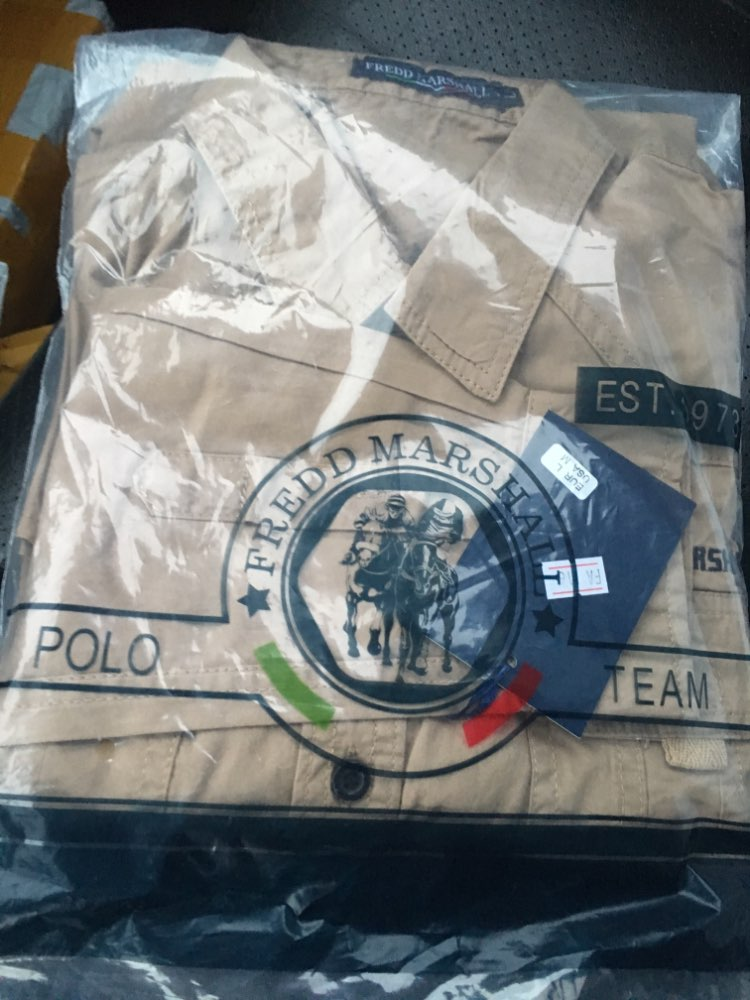shirts: (51, 82, 750, 782)
